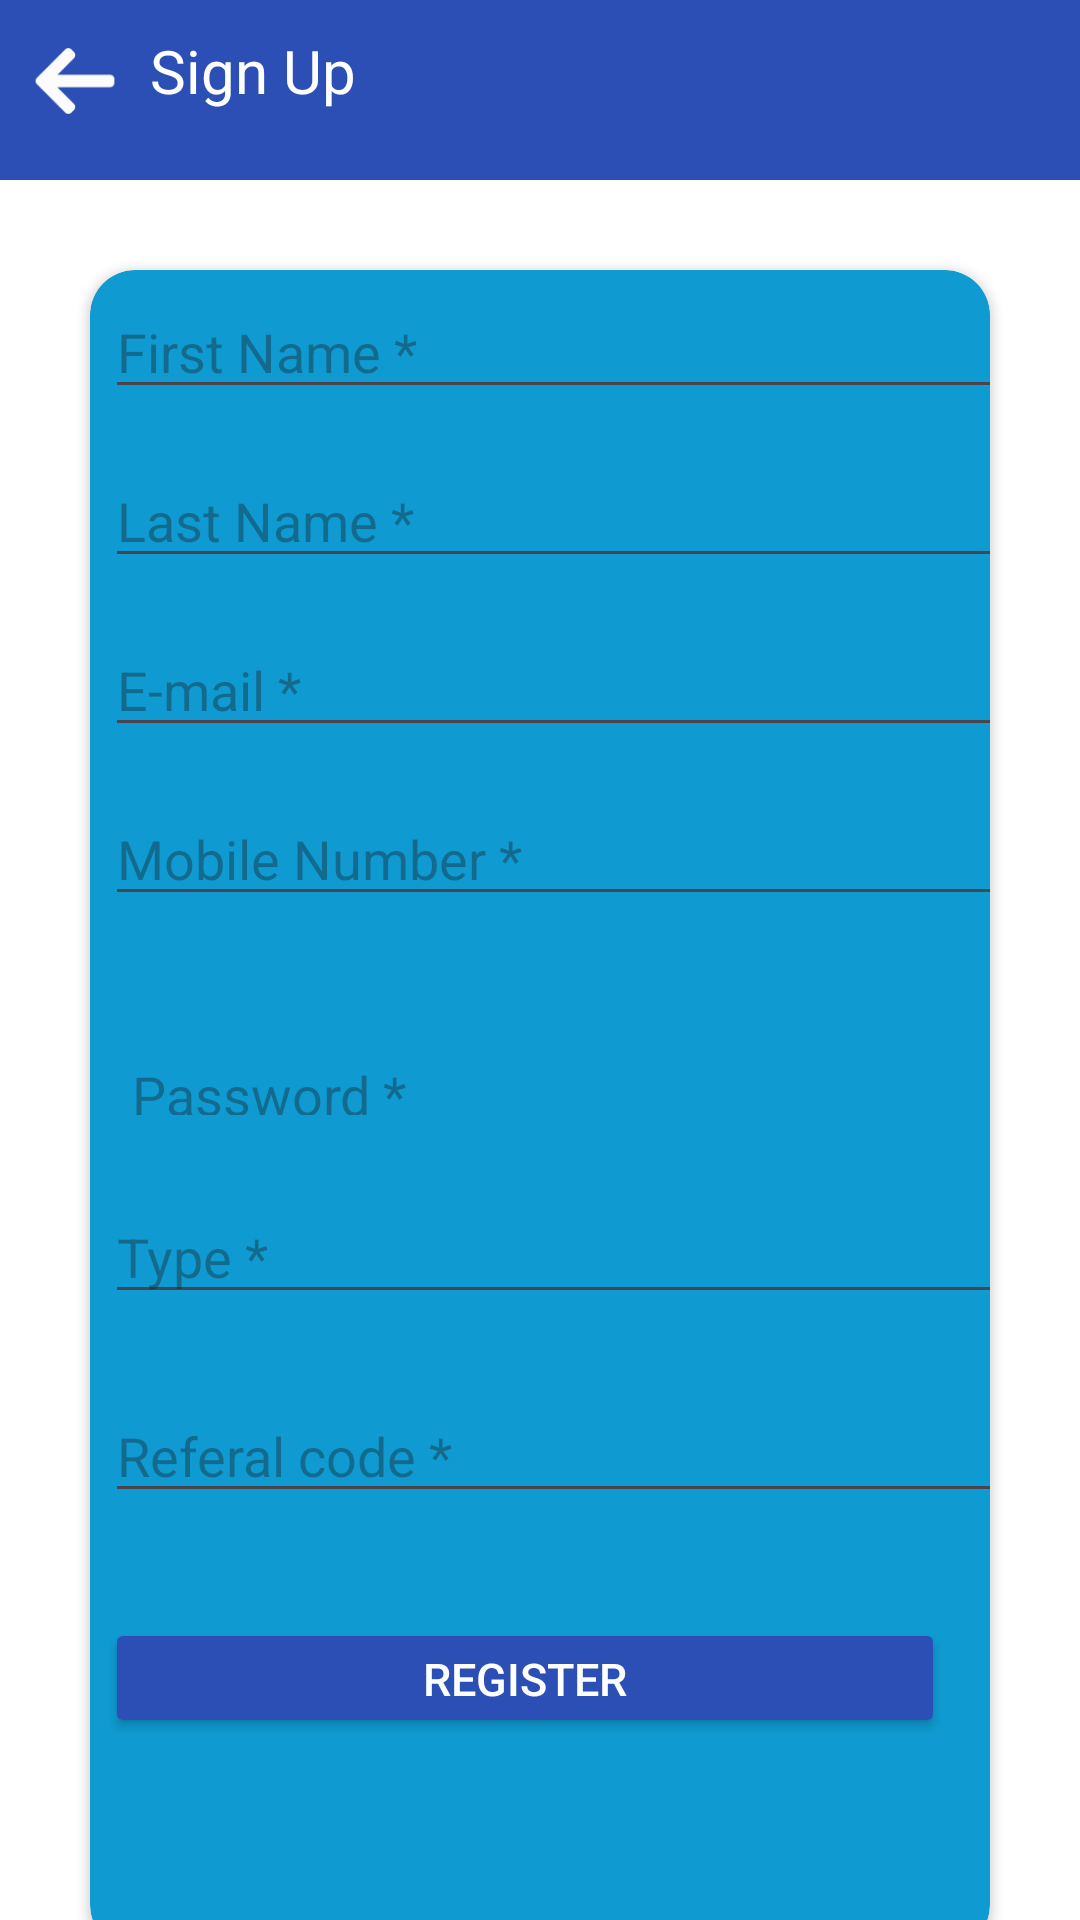

Where icons sit on this 1080px x 1920px app screen, as (x1, y1, x2, y2):
arrow left: (35, 48, 115, 114)
